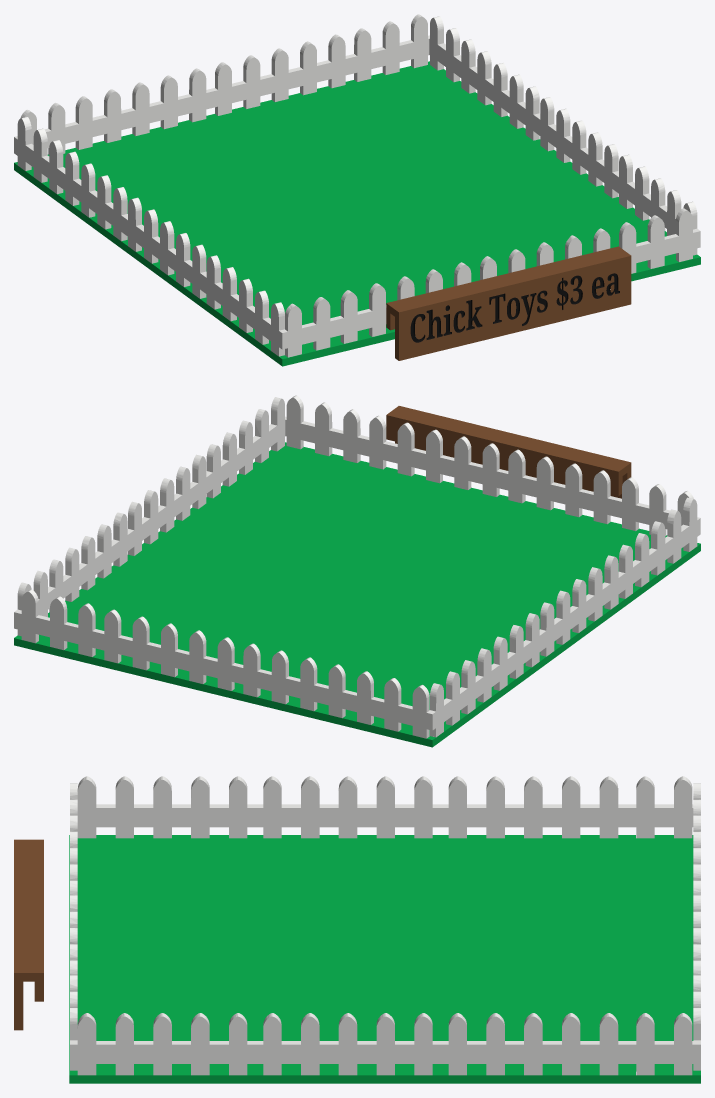
The picture shows the model from 3 angles, top to bottom: view 1: azimuth 30°, elevation 25°; view 2: azimuth 150°, elevation 25°; view 3: azimuth 270°, elevation 25°; orthographic projection. The views are drawn at different scales.
Parts seen in each view (by area): view 1: coop_floor, coop_fence, coop_sign, coop_sign_text; view 2: coop_floor, coop_fence, coop_sign; view 3: coop_floor, coop_fence, coop_sign.
Part boxes in pixels (<box>): coop_floor: <box>14,61,700,366</box>; coop_fence: <box>14,14,700,357</box>; coop_sign: <box>386,246,631,360</box>; coop_sign_text: <box>410,273,619,342</box>; coop_floor: <box>14,442,700,747</box>; coop_fence: <box>14,395,700,738</box>; coop_sign: <box>386,406,631,498</box>; coop_floor: <box>69,835,700,1083</box>; coop_fence: <box>70,776,700,1075</box>; coop_sign: <box>14,839,43,1030</box>.
Bounding box in the file's own units: 180 × 23.5 × 217.
